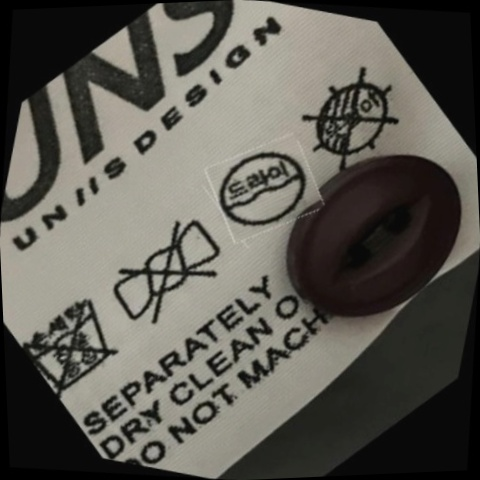DN_dry: (292, 60, 410, 179)
DN_wring: (101, 208, 233, 340)
dry_clean: (211, 135, 317, 244)
hand_wash: (19, 281, 131, 401)
